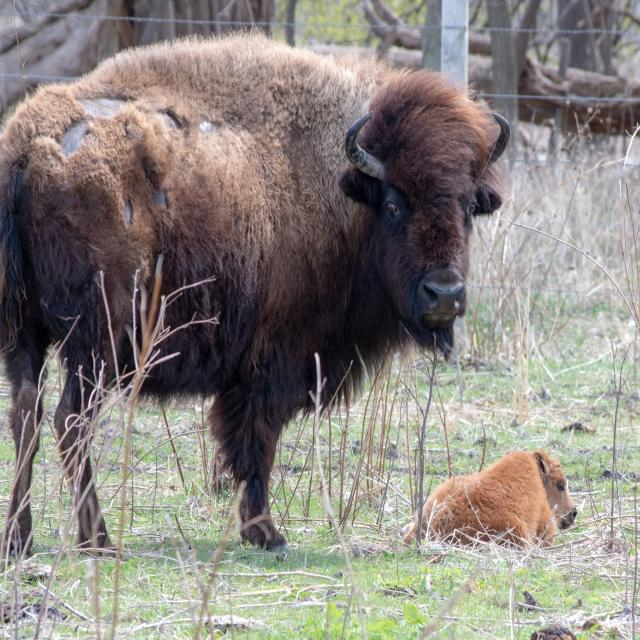Bison: (0, 16, 523, 568)
